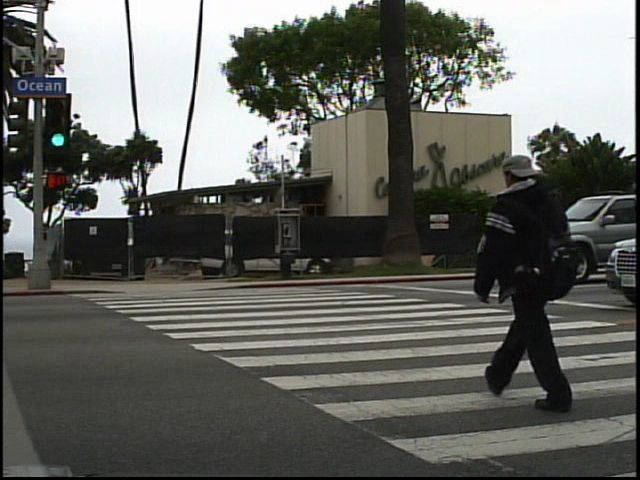person: (479, 138, 583, 407)
